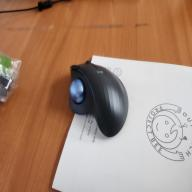mouse: (68, 59, 130, 140)
